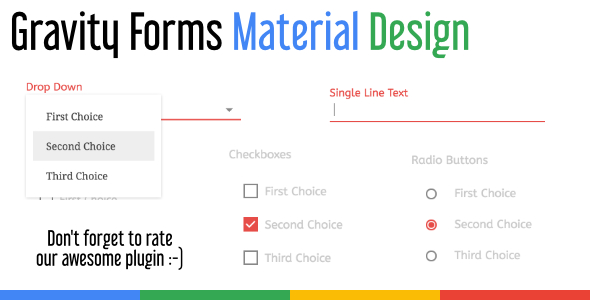_form_: (143, 1, 559, 300)
checkbox: (240, 182, 263, 199), (242, 215, 261, 234), (242, 249, 261, 266)
checkbox_with_label: (240, 213, 341, 235), (240, 247, 336, 268), (237, 180, 329, 201)
field_line: (327, 85, 545, 123), (158, 93, 245, 122)
radio: (422, 186, 441, 202), (425, 216, 439, 233), (426, 246, 438, 262)
radio_with_label: (423, 214, 533, 235), (419, 183, 515, 204), (425, 245, 521, 263)
